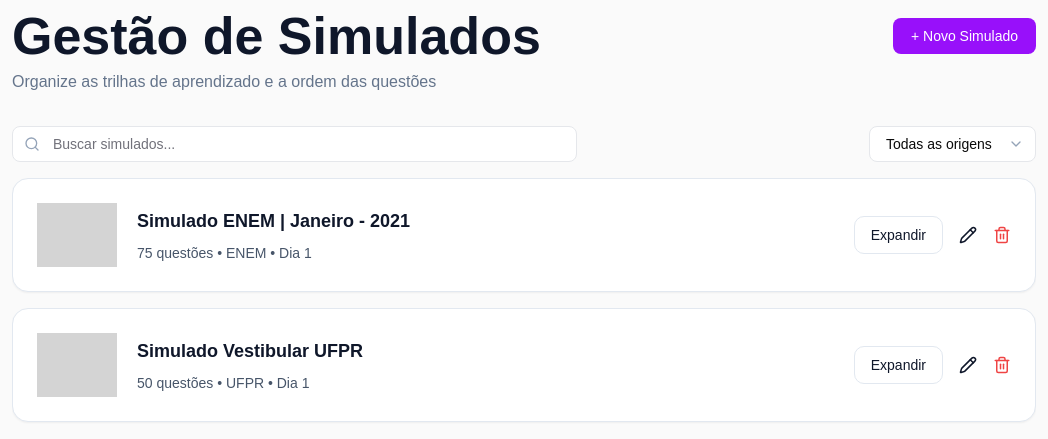
Test: ExamsPage › deve excluir o simulado e removê-lo da lista
Expected: the heading "Simulado ENEM | Janeiro - 2021" is shown, [137, 211, 410, 231]
Click the button named "Excluir simulado" in the row of "Simulado ENEM | Janeiro - 2021" at point(1002, 235), box [993, 226, 1011, 244]
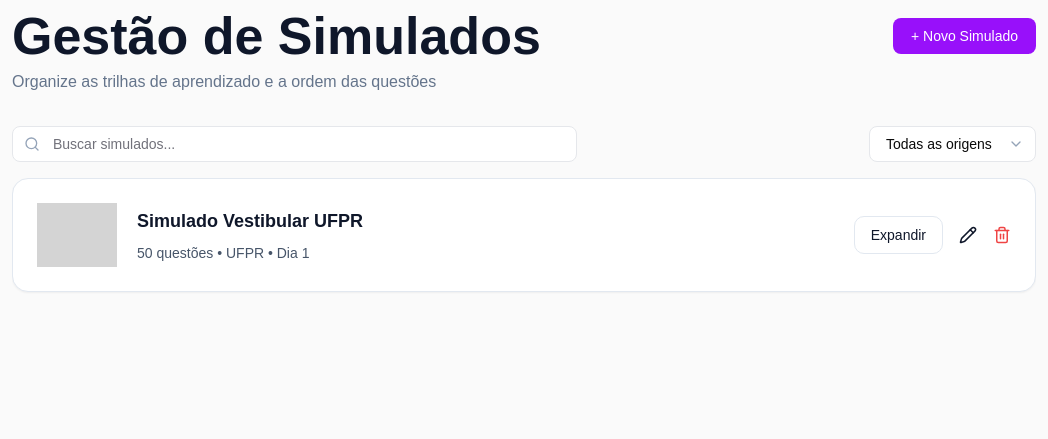
Expected: the heading "Simulado Vestibular UFPR" is shown, [137, 211, 363, 231]
Expected: the heading "Simulado ENEM | Janeiro - 2021" is gone
